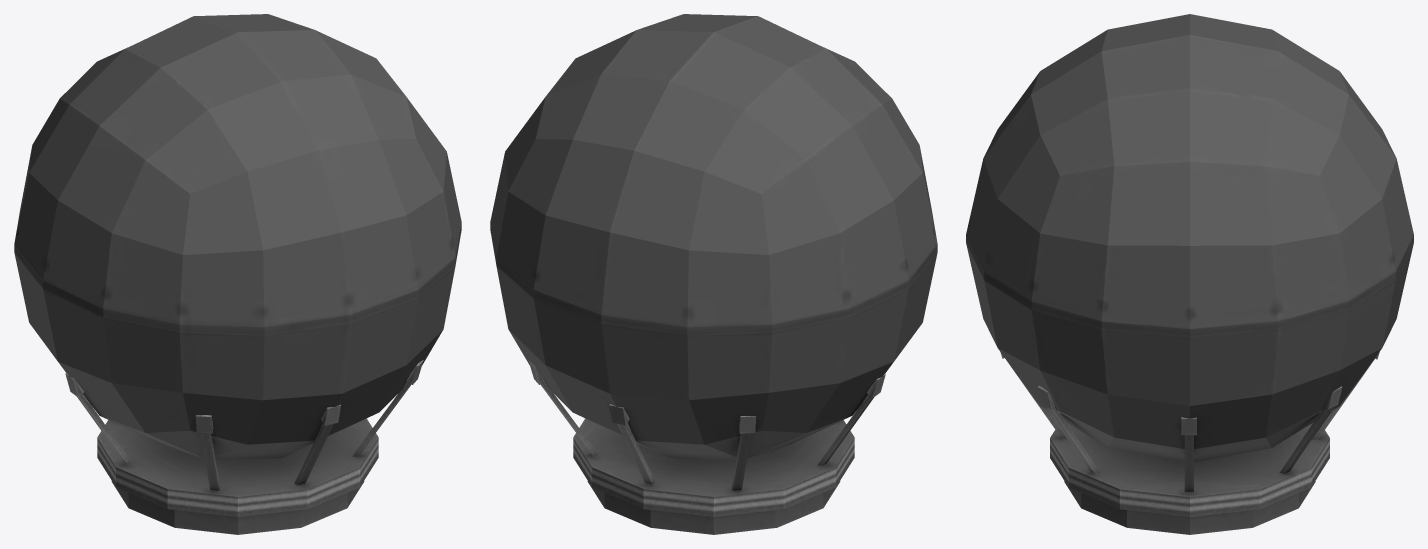
Rendered from 7Hklkby17fr.glb.
3 renders of one model, left to right at view 1: azimuth 30°, elevation 25°; view 2: azimuth 150°, elevation 25°; view 3: azimuth 270°, elevation 25°, orthographic.
Visible parts, largest first — view 1: ProbodobodyneStayputnik_mesh; view 2: ProbodobodyneStayputnik_mesh; view 3: ProbodobodyneStayputnik_mesh.
Boxes of the visible parts, x1,y1,x2,y2 form: ProbodobodyneStayputnik_mesh: (14,14,461,534); ProbodobodyneStayputnik_mesh: (490,14,937,534); ProbodobodyneStayputnik_mesh: (966,14,1413,534).
Size of the model in its own units: 0.9083 by 1 by 0.9083.
Materials: 1 (1 with a texture image).
